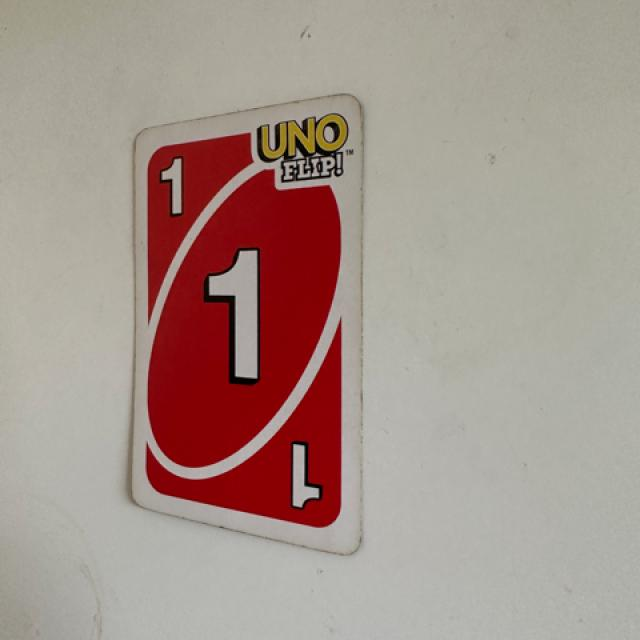lred-1: (143, 138, 215, 244)
